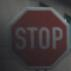Stop sign: (0, 0, 70, 70)
